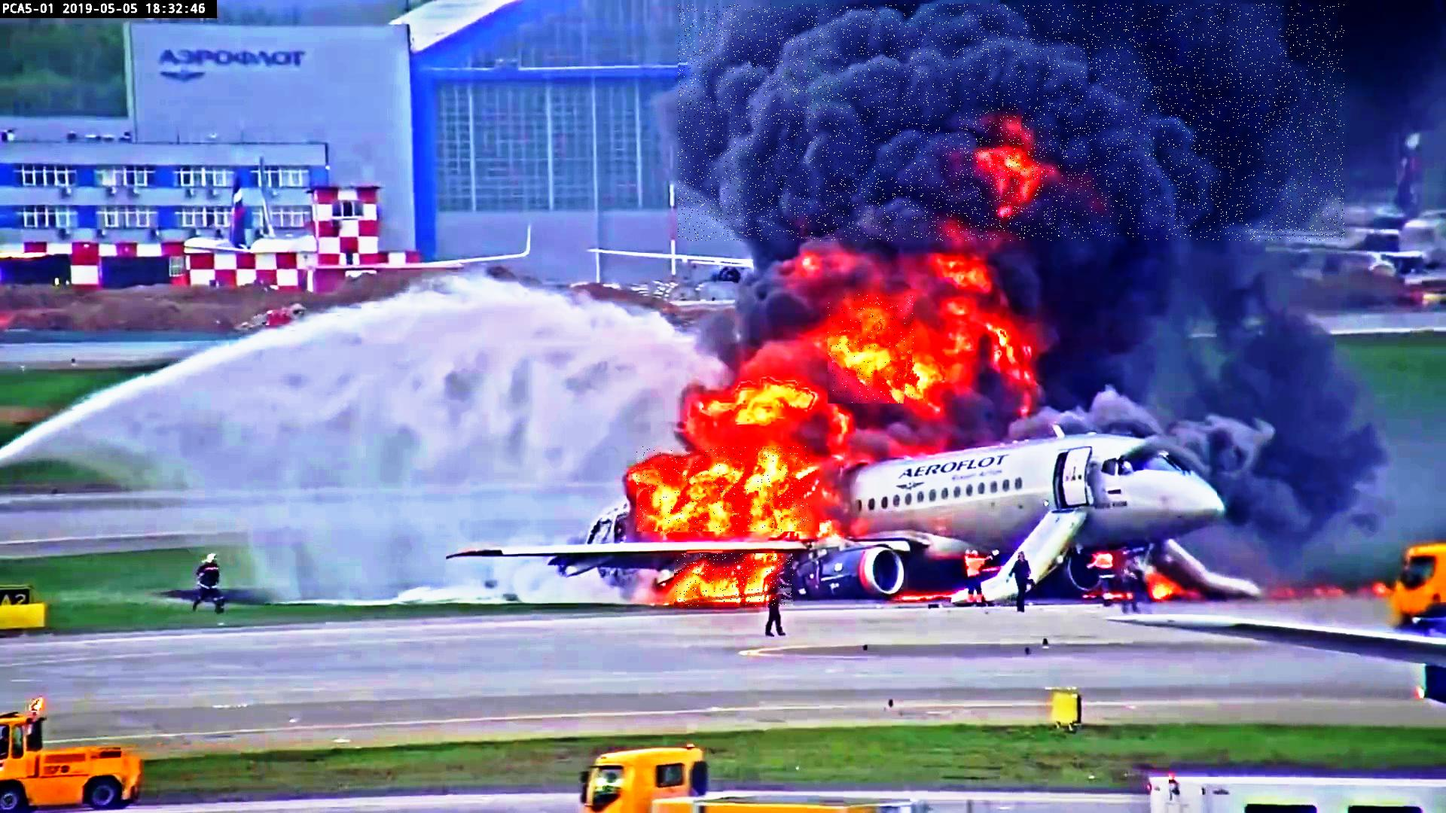fire: (637, 447, 811, 532), (828, 294, 914, 404), (674, 554, 793, 607)
smoke: (678, 4, 1344, 241)
